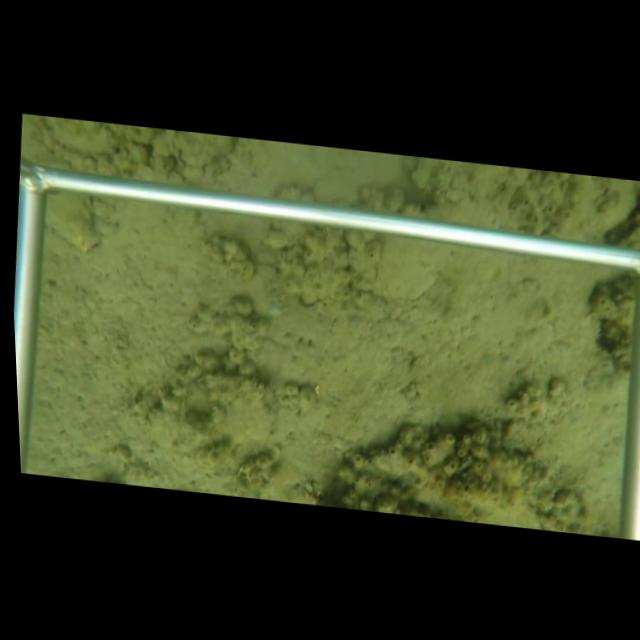Oyster-Indeterminate: (375, 233, 454, 300), (44, 195, 105, 253)
